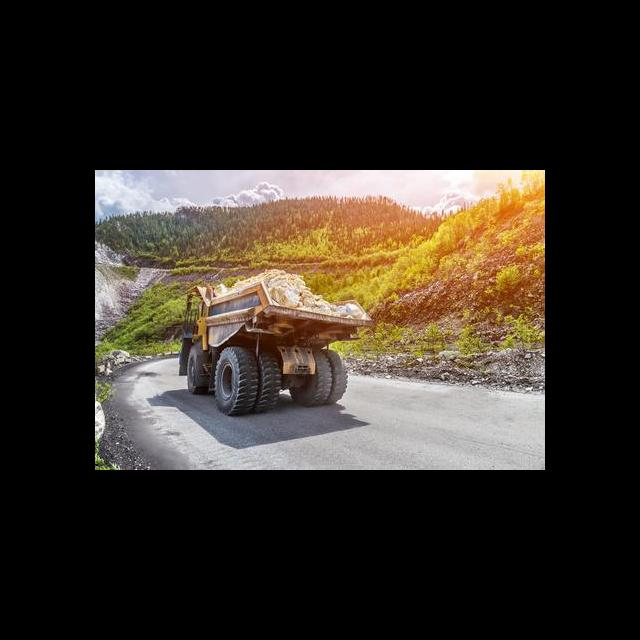dump truck: (180, 278, 371, 425)
